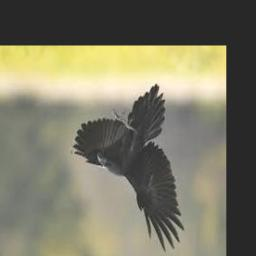Crow: (70, 84, 184, 252)
